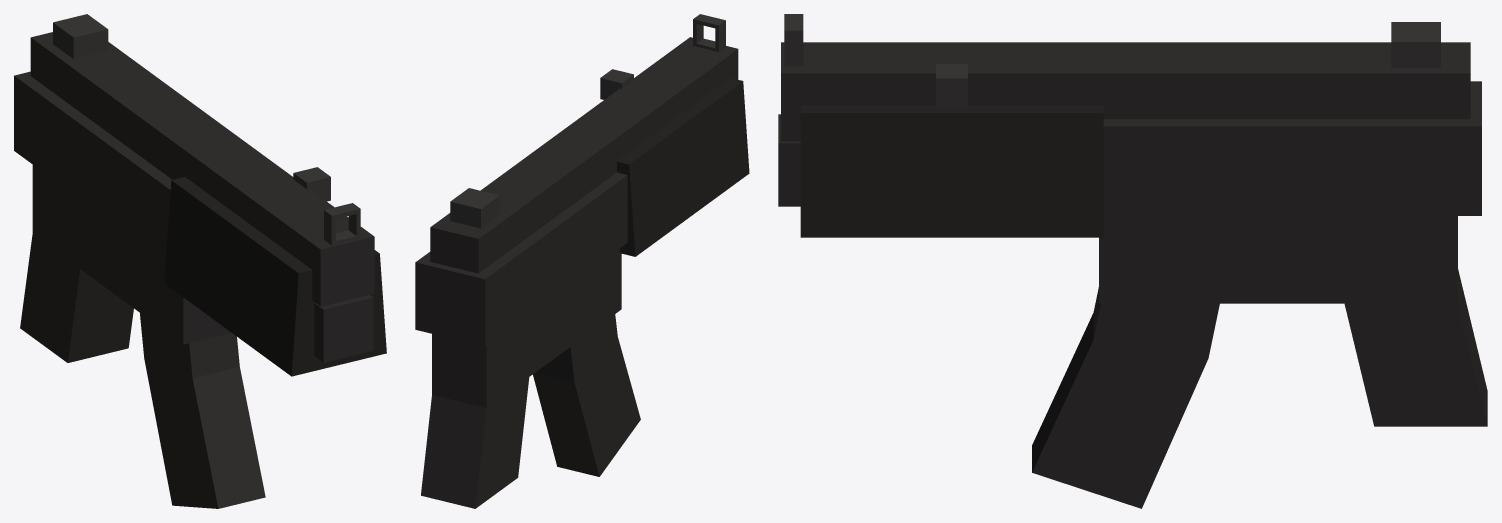
Rendered from SMG5k.FBX.
The picture shows the model from 3 angles, left to right: view 1: azimuth 30°, elevation 25°; view 2: azimuth 150°, elevation 25°; view 3: azimuth 270°, elevation 25°; orthographic projection. The views are drawn at different scales.
Parts seen in each view (by area): view 1: SMG5k, SMG5k_mag; view 2: SMG5k, SMG5k_mag; view 3: SMG5k, SMG5k_mag.
Boxes of the visible parts, left/top/right/bottom form: SMG5k: left=14, top=14, right=386, bottom=376; SMG5k_mag: left=140, top=313, right=265, bottom=508; SMG5k: left=415, top=14, right=749, bottom=508; SMG5k_mag: left=533, top=314, right=640, bottom=476; SMG5k: left=778, top=14, right=1487, bottom=426; SMG5k_mag: left=1032, top=287, right=1219, bottom=508.
Bounding box in the file's own units: 14.94 × 80.17 × 58.96.
